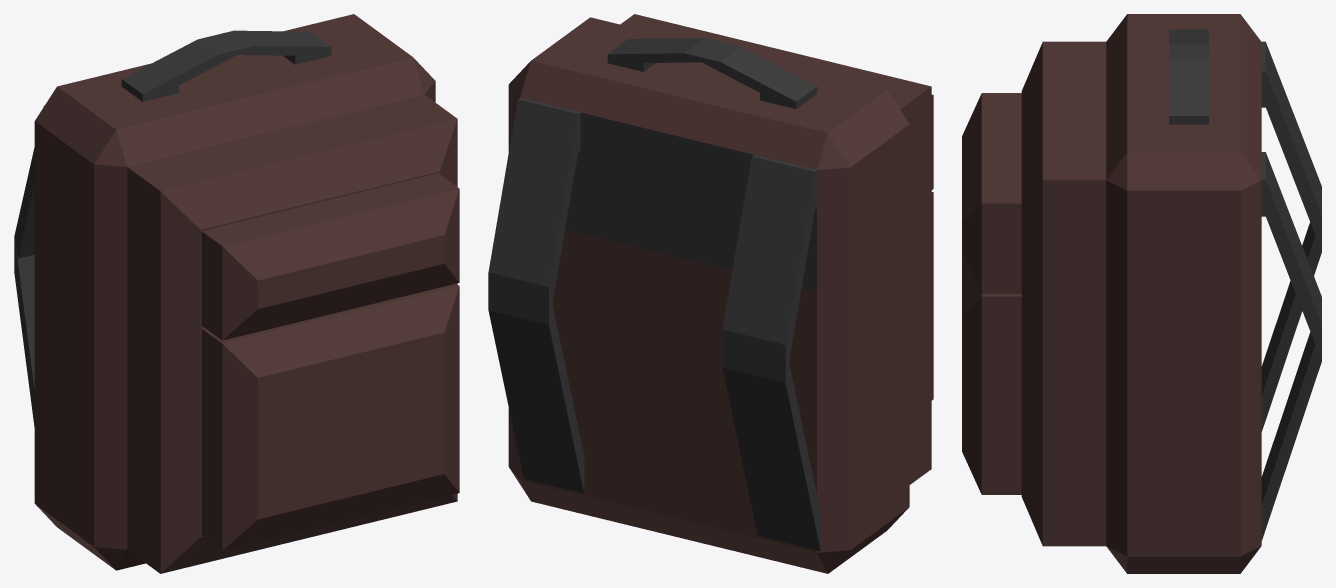
The model's file is Ryukzak.fbx.
3 views of the same model, side by side, from view 1: azimuth 30°, elevation 25°; view 2: azimuth 150°, elevation 25°; view 3: azimuth 270°, elevation 25° (orthographic). The views are drawn at different scales.
Visible parts, largest first — view 1: Cube, Plane, Cube.001; view 2: Cube, Cube.001, Plane; view 3: Cube, Cube.001, Plane.
Part boxes in pixels (bbox=[...]): Cube: bbox=[34, 14, 459, 573]; Plane: bbox=[121, 30, 331, 101]; Cube.001: bbox=[14, 105, 44, 427]; Cube: bbox=[508, 14, 933, 573]; Cube.001: bbox=[488, 98, 820, 551]; Plane: bbox=[607, 38, 817, 108]; Cube: bbox=[962, 14, 1261, 573]; Cube.001: bbox=[1261, 41, 1321, 540]; Plane: bbox=[1169, 29, 1208, 124].
Size of the model in its own units: 290 by 381 by 277.
